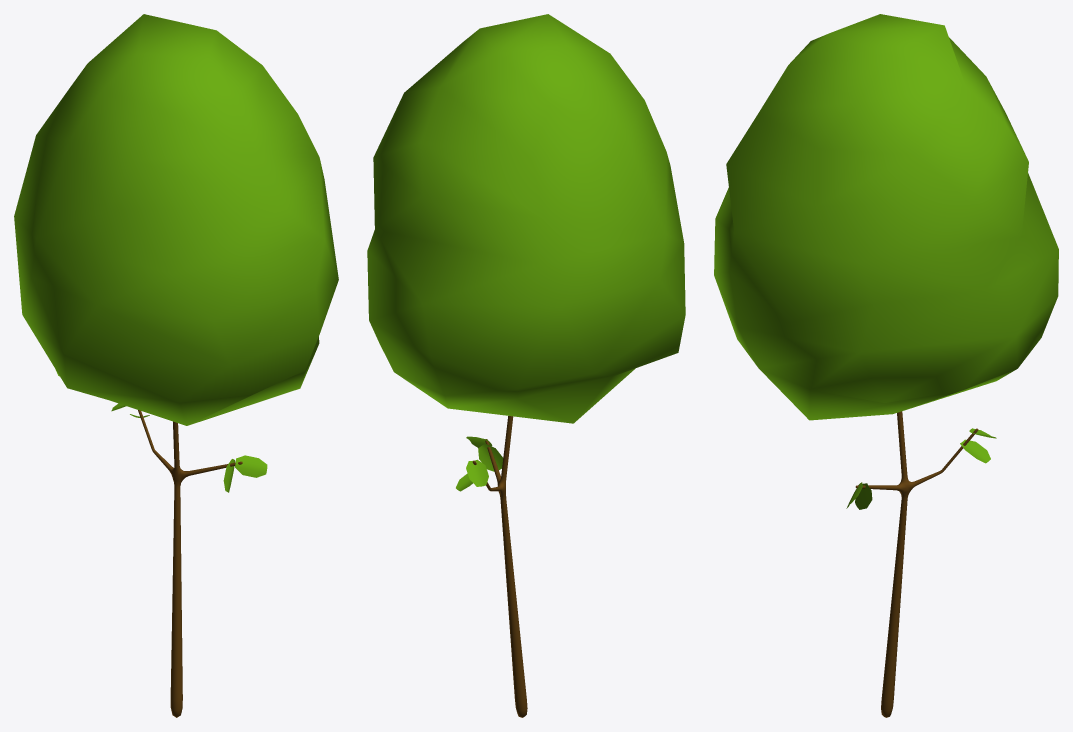
File: LittleTreeMK1.fbx
The picture shows the model from 3 angles, left to right: view 1: azimuth 30°, elevation 25°; view 2: azimuth 150°, elevation 25°; view 3: azimuth 270°, elevation 25°; orthographic projection.
Visible parts, largest first — view 1: Cube; view 2: Cube; view 3: Cube.
Boxes of the visible parts, x1,y1,x2,y2 form: Cube: (14, 14, 338, 717); Cube: (367, 14, 685, 717); Cube: (714, 14, 1058, 717).
Size of the model in its own units: 209 by 495 by 224.
